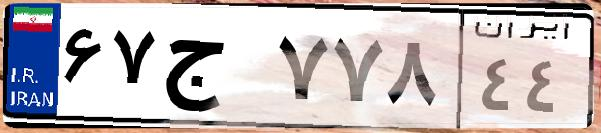4: (475, 38, 525, 113), (525, 38, 570, 115)
6: (57, 26, 110, 100)
7: (270, 28, 330, 110), (330, 28, 385, 110), (110, 28, 158, 98)
8: (385, 28, 445, 110)
ج: (158, 20, 270, 120)
